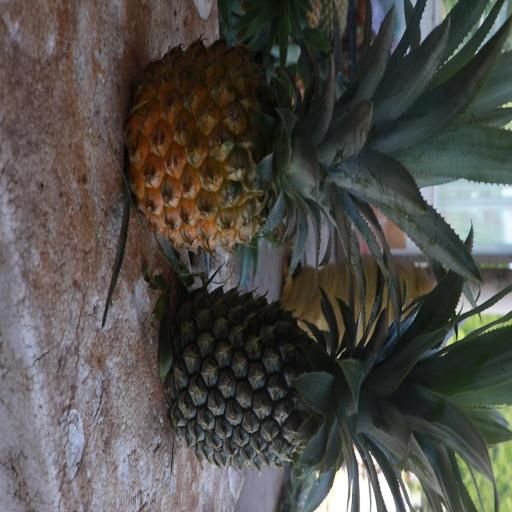Pineapple - v8 v1: (129, 47, 456, 253)
